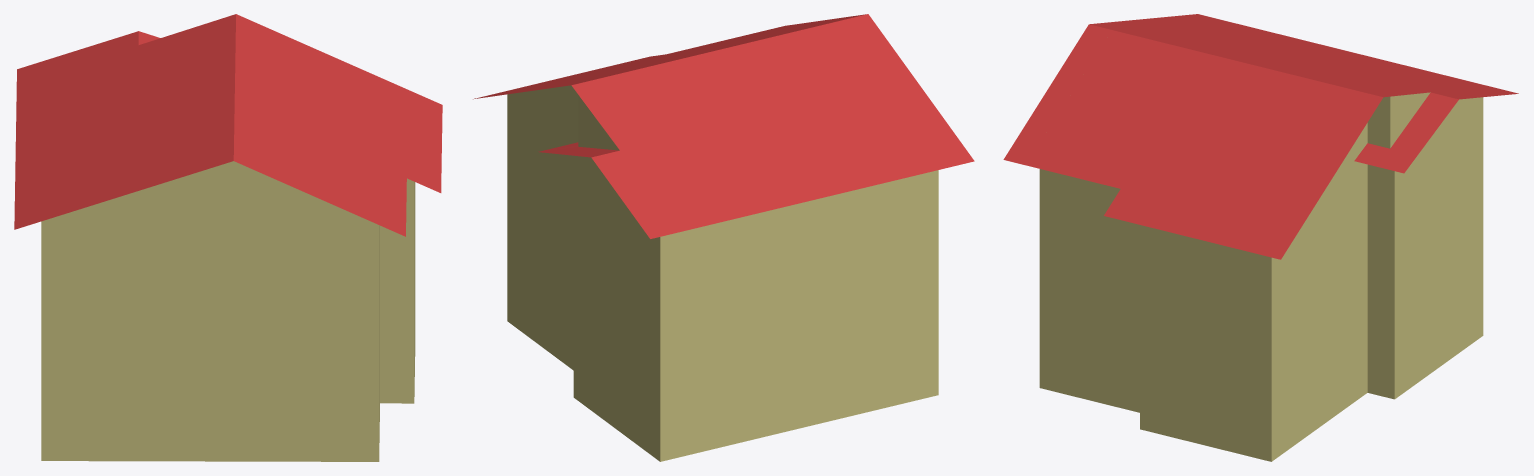
3 views of the same model, side by side, from view 1: azimuth 30°, elevation 25°; view 2: azimuth 150°, elevation 25°; view 3: azimuth 270°, elevation 25° (orthographic).
Visible parts, largest first — view 1: group_5, group_3, group_4; view 2: group_5, group_3, group_9, group_4; view 3: group_5, group_3, group_9, group_4, group_7, group_8.
Part boxes in pixels (x1=…): group_5: x1=41, y1=161, x2=415, y2=461; group_3: x1=14, y1=14, x2=442, y2=229; group_4: x1=15, y1=15, x2=440, y2=236; group_5: x1=507, y1=85, x2=938, y2=461; group_3: x1=473, y1=14, x2=974, y2=238; group_9: x1=573, y1=155, x2=614, y2=427; group_4: x1=572, y1=14, x2=865, y2=237; group_5: x1=1039, y1=92, x2=1483, y2=461; group_3: x1=1040, y1=14, x2=1517, y2=259; group_9: x1=1390, y1=130, x2=1436, y2=399; group_4: x1=1003, y1=24, x2=1518, y2=251; group_7: x1=1390, y1=92, x2=1458, y2=173; group_8: x1=1354, y1=103, x2=1455, y2=173.
Size of the model in its own units: 15.12 by 14.64 by 9.58.
